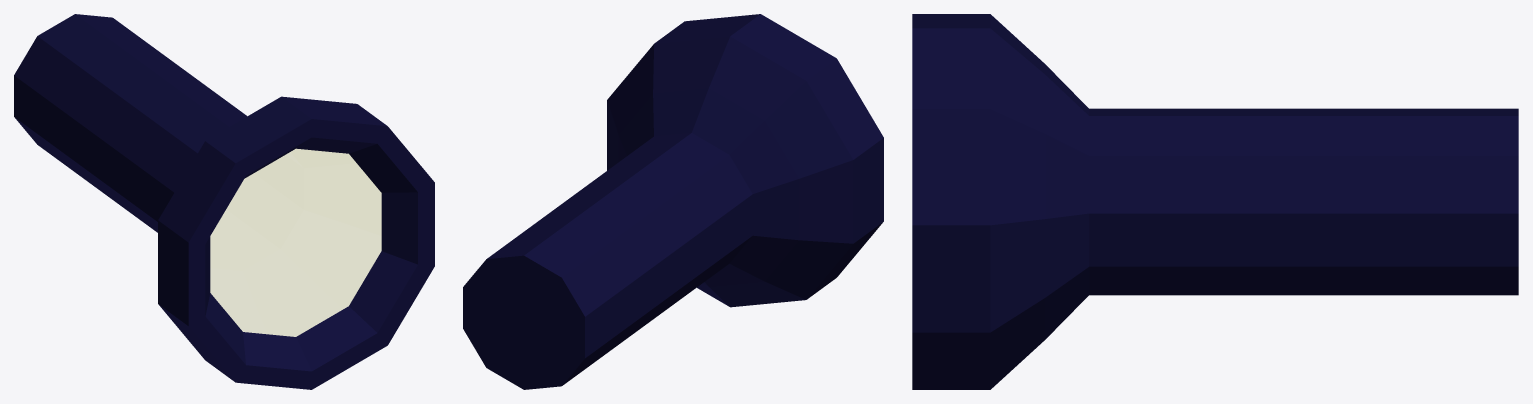
File: linterna.fbx
The picture shows the model from 3 angles, left to right: view 1: azimuth 30°, elevation 25°; view 2: azimuth 150°, elevation 25°; view 3: azimuth 270°, elevation 25°; orthographic projection. The views are drawn at different scales.
Visible parts, largest first — view 1: Cylinder; view 2: Cylinder; view 3: Cylinder.
Boxes of the visible parts, <box> form: Cylinder: <box>14,14,434,389</box>; Cylinder: <box>463,14,883,389</box>; Cylinder: <box>912,14,1518,389</box>.
Size of the model in its own units: 49.64 by 52.19 by 82.64.
